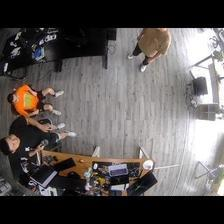normal: (7, 83, 65, 118), (127, 28, 171, 73)
